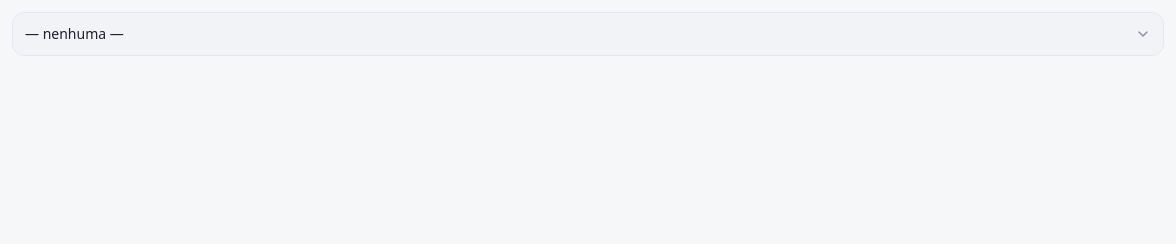
Select › aceita fragments, arrays e filhos condicionais; valor ausente = rótulo
Later steps or results of the test are not shown.
Click the dropdown: [74, 34] box left=12, top=12, right=1164, bottom=56
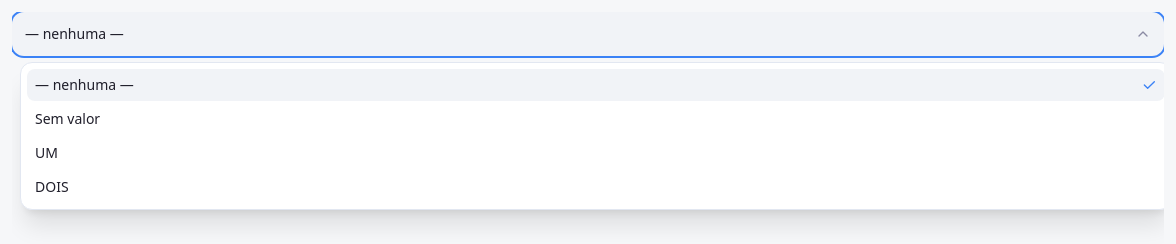
expect the options read "— nenhuma —", "Sem valor", "UM", "DOIS", in this order: met, box left=27, top=69, right=1165, bottom=101; left=35, top=109, right=100, bottom=128; left=35, top=143, right=58, bottom=162; left=35, top=177, right=69, bottom=196
